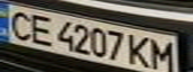0: (87, 25, 109, 58)
2: (69, 21, 93, 56)
4: (51, 19, 75, 52)
7: (106, 28, 127, 63)
C: (3, 8, 39, 42)
E: (24, 12, 57, 46)
K: (124, 33, 154, 69)
M: (148, 38, 178, 72)
